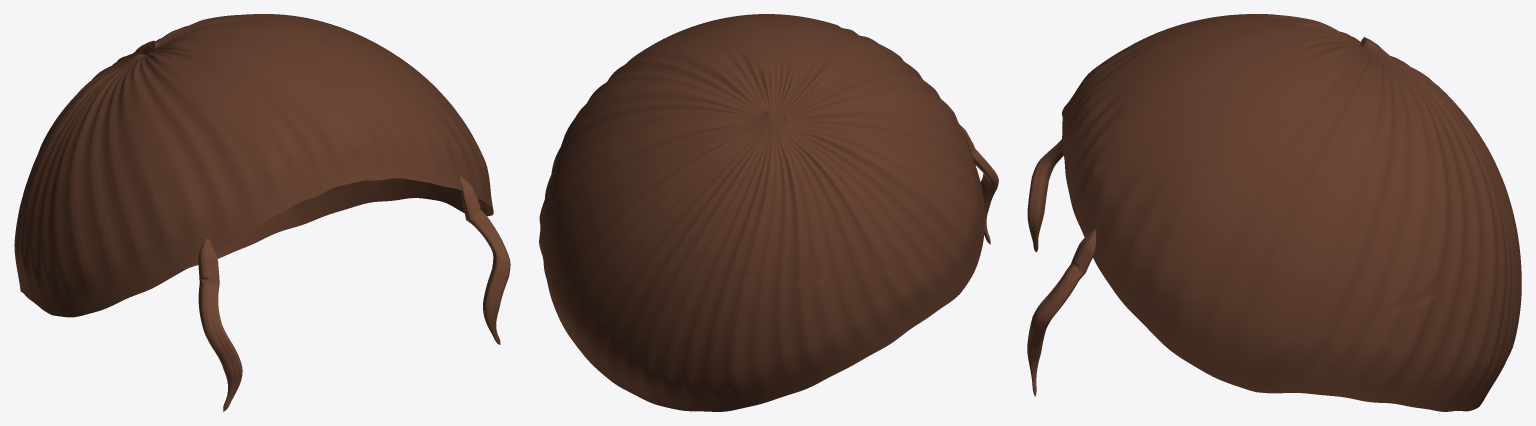
Rendered from ponytail-beanie-fringe-default.glb.
3 renders of one model, left to right at view 1: azimuth 30°, elevation 25°; view 2: azimuth 150°, elevation 25°; view 3: azimuth 270°, elevation 25°, orthographic. The views are drawn at different scales.
Visible parts, largest first — view 1: 226 hair / Hair / crisp pulled roots220.002, 226 hair / Hair / sculpted front locks222.002; view 2: 226 hair / Hair / crisp pulled roots220.002, 226 hair / Hair / sculpted front locks222.002; view 3: 226 hair / Hair / crisp pulled roots220.002, 226 hair / Hair / sculpted front locks222.002.
Part boxes in pixels (x1,y1,x2,y2): 226 hair / Hair / crisp pulled roots220.002: (14,14,493,317); 226 hair / Hair / sculpted front locks222.002: (198,176,510,411); 226 hair / Hair / crisp pulled roots220.002: (539,14,984,411); 226 hair / Hair / sculpted front locks222.002: (959,124,998,244); 226 hair / Hair / crisp pulled roots220.002: (1061,14,1521,411); 226 hair / Hair / sculpted front locks222.002: (1027,139,1096,396).
Bounding box in the file's own units: 0.7726 × 0.5697 × 0.7364.
